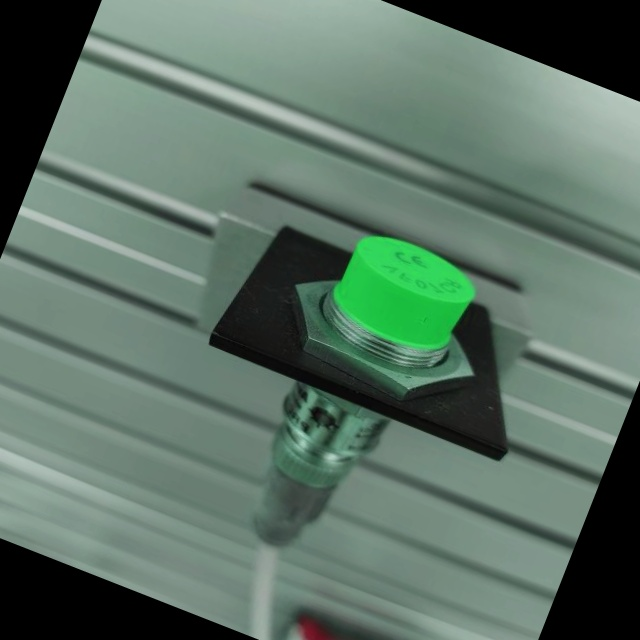inductive sensor: (100, 162, 578, 621)
